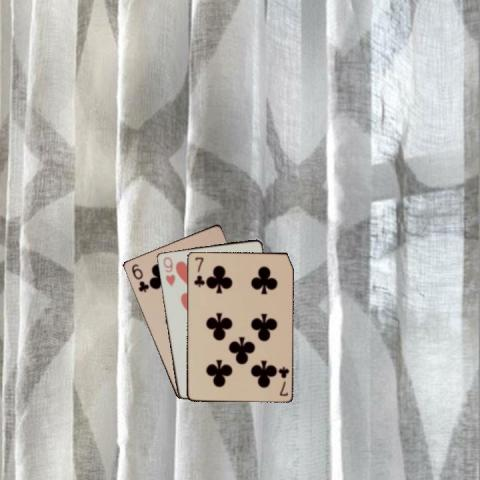6c: (128, 261, 150, 293)
7c: (275, 364, 290, 398), (191, 254, 204, 288)
9h: (160, 254, 177, 288)
